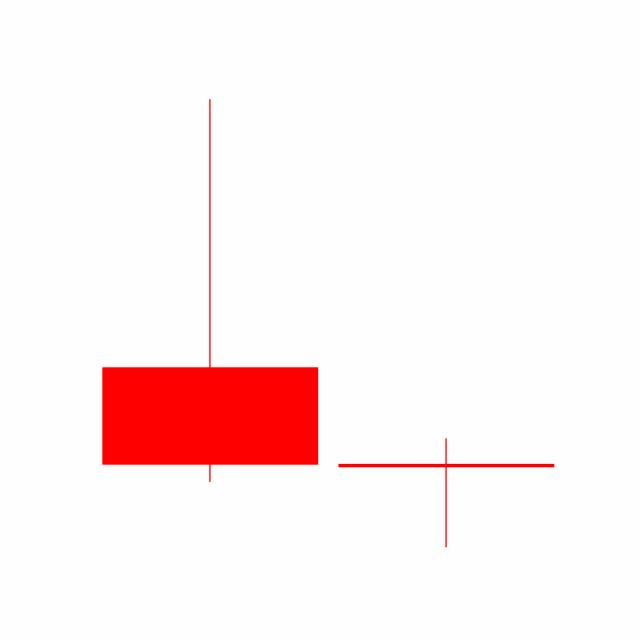Hammer: (327, 437, 565, 549)
